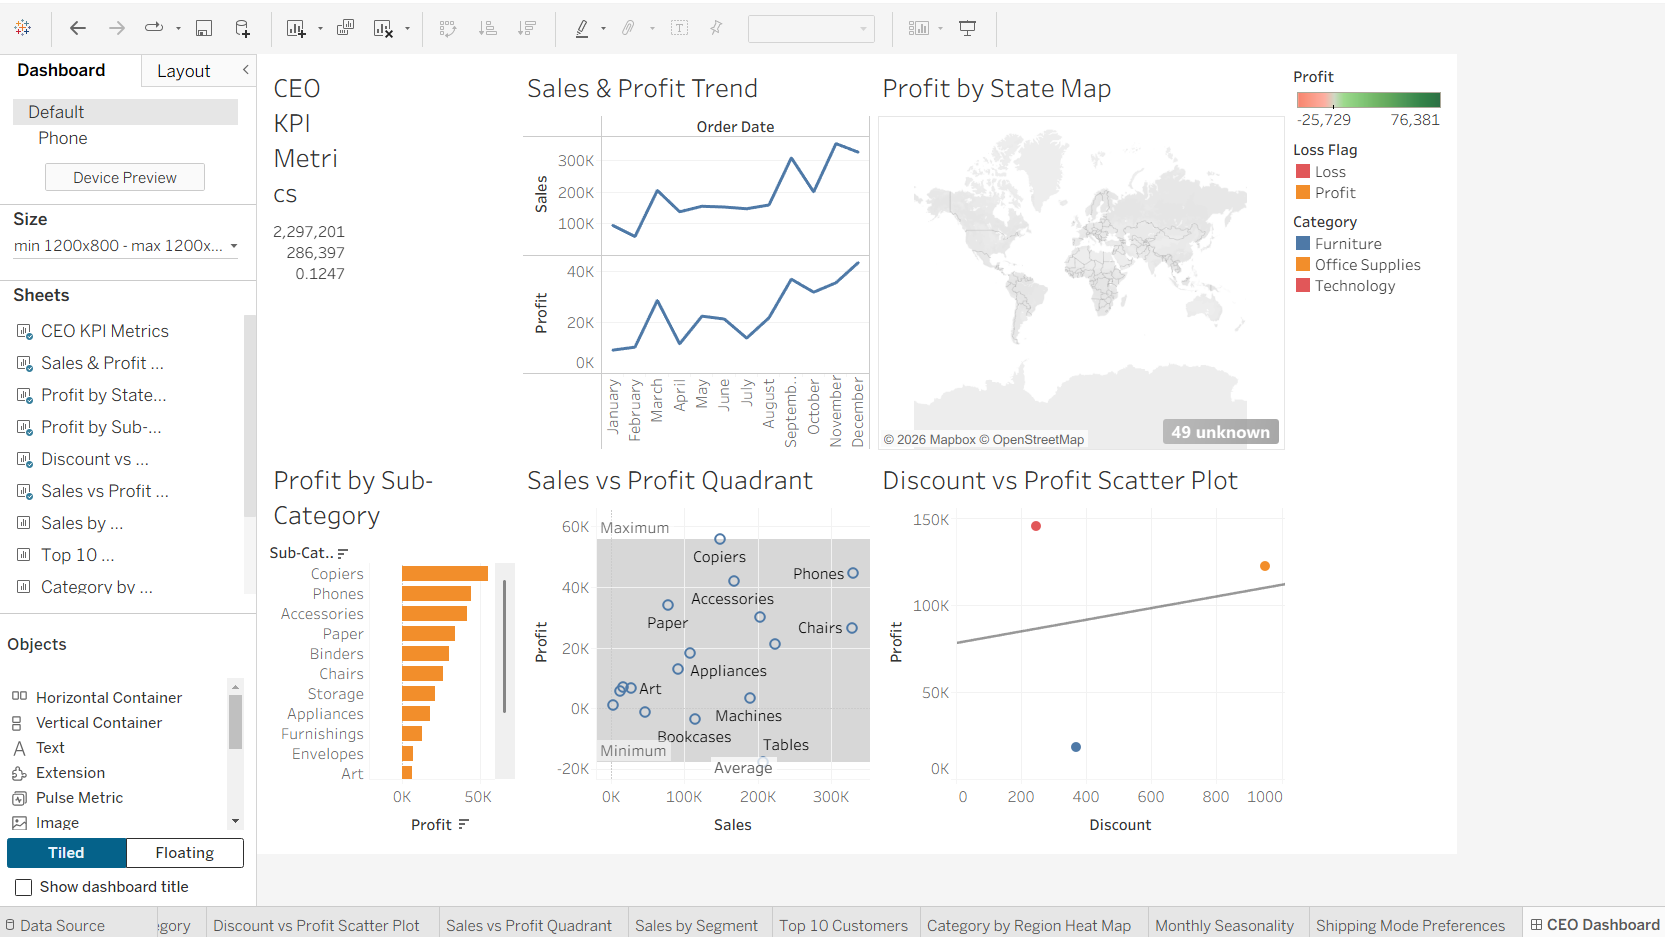

Layout of this report page (visuals, bound fields, positions):
{"tool":"tableau","page":{"name":"CEO Dashboard","canvas":[1200,800],"ordinal":0},"visuals":[{"type":"worksheet","title":"CEO KPI Metrics","mark":"Automatic","box":[8,8,254,392]},{"type":"worksheet","title":"Sales & Profit Trend","mark":"Automatic","rows":["Sales","Profit"],"cols":["Order Date"],"box":[262,8,355,392]},{"type":"worksheet","title":"Profit by State Map","mark":"Automatic","box":[617,8,415,392]},{"type":"legend","title":"Profit by State Map","param":"[federated.1yjnz1w06qpdyq149229o07qxkbt].[sum:Profit:qk]","box":[1032,8,160,73]},{"type":"legend","title":"Profit by Sub-Category","param":"[federated.1yjnz1w06qpdyq149229o07qxkbt].[usr:Calculation_0827170378166274:nk]","box":[1032,81,160,72]},{"type":"legend","title":"Discount vs Profit Scatter Plot","param":"[federated.1yjnz1w06qpdyq149229o07qxkbt].[none:Category:nk]","box":[1032,153,160,93]},{"type":"filter","title":"Sales vs Profit Quadrant","param":"[federated.1yjnz1w06qpdyq149229o07qxkbt].[yr:Order Date:ok]","box":[1032,246,160,151]},{"type":"filter","title":"Profit by Sub-Category","param":"[federated.1yjnz1w06qpdyq149229o07qxkbt].[none:Region:nk]","box":[1032,397,160,151]},{"type":"worksheet","title":"Profit by Sub-Category","mark":"Automatic","rows":["Sub-Category"],"cols":["Profit"],"box":[8,400,254,392]},{"type":"worksheet","title":"Sales vs Profit Quadrant","mark":"Automatic","rows":["Profit"],"cols":["Sales"],"box":[262,400,355,392]},{"type":"worksheet","title":"Discount vs Profit Scatter Plot","mark":"Circle","rows":["Profit"],"cols":["Discount"],"box":[617,400,415,392]},{"type":"filter","title":"Sales & Profit Trend","param":"[federated.1yjnz1w06qpdyq149229o07qxkbt].[yr:Order Date:ok]","box":[1032,548,160,151]}]}

Visuals, with their boxes on the page's 1200x800 design canvas (x1, y1, x2, y2). These are canvas units, not pixel positions in the 1665x937 screenshot, which may show the page scaled, cropped or inside an application window:
"CEO KPI Metrics" worksheet: (left=8, top=8, right=262, bottom=400)
"Sales & Profit Trend" worksheet: (left=262, top=8, right=617, bottom=400)
"Profit by State Map" worksheet: (left=617, top=8, right=1032, bottom=400)
"Profit by State Map" legend: (left=1032, top=8, right=1192, bottom=81)
"Profit by Sub-Category" legend: (left=1032, top=81, right=1192, bottom=153)
"Discount vs Profit Scatter Plot" legend: (left=1032, top=153, right=1192, bottom=246)
"Sales vs Profit Quadrant" filter: (left=1032, top=246, right=1192, bottom=397)
"Profit by Sub-Category" filter: (left=1032, top=397, right=1192, bottom=548)
"Profit by Sub-Category" worksheet: (left=8, top=400, right=262, bottom=792)
"Sales vs Profit Quadrant" worksheet: (left=262, top=400, right=617, bottom=792)
"Discount vs Profit Scatter Plot" worksheet (Circle marks): (left=617, top=400, right=1032, bottom=792)
"Sales & Profit Trend" filter: (left=1032, top=548, right=1192, bottom=699)
